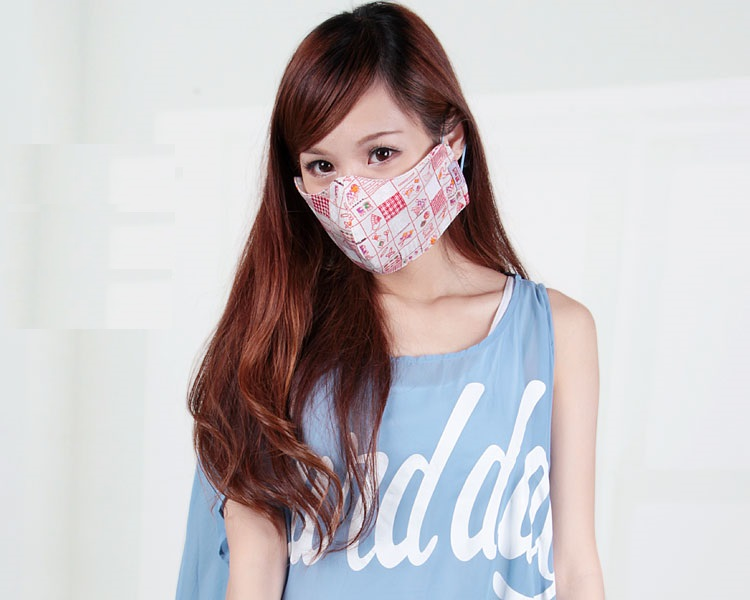face_mask: (294, 79, 445, 267)
